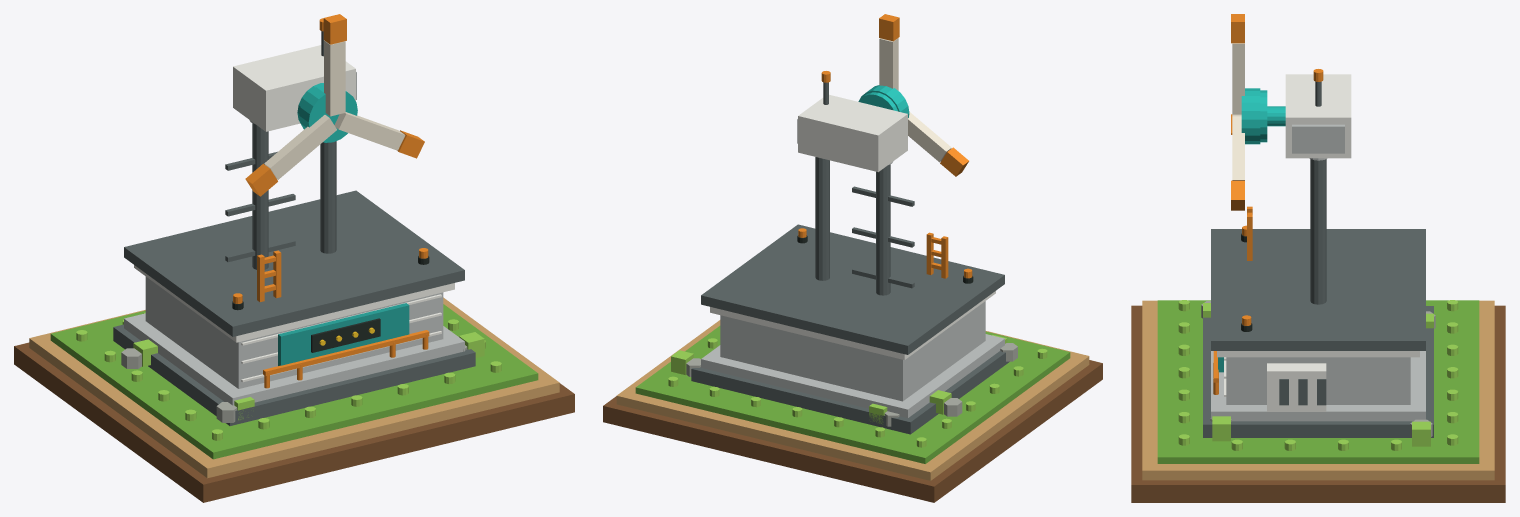
The model's file is power_station.glb.
The picture shows the model from 3 angles, left to right: view 1: azimuth 30°, elevation 25°; view 2: azimuth 150°, elevation 25°; view 3: azimuth 270°, elevation 25°; orthographic projection. The views are drawn at different scales.
Parts seen in each view (by area): view 1: deck_trim, grass_field, base_dark, base_soil, power_house, foundation_gray, foundation_dark, nacelle, control_panel, deck, tower_leg.001, tower_leg (+8 smaller); view 2: deck_trim, grass_field, base_dark, power_house, base_soil, nacelle, foundation_gray, foundation_dark, tower_leg, tower_leg.001, deck, blade.001 (+1 smaller); view 3: deck_trim, grass_field, base_dark, base_soil, power_house, foundation_dark, foundation_gray, nacelle, tower_leg.001, side_box, nacelle_side, deck (+8 smaller).
Part boxes in pixels (left/top/right/bottom): deck_trim: left=124, top=190, right=464, bottom=336; grass_field: left=50, top=304, right=538, bottom=459; base_dark: left=14, top=342, right=574, bottom=502; base_soil: left=29, top=297, right=559, bottom=478; power_house: left=145, top=276, right=443, bottom=388; foundation_gray: left=124, top=313, right=464, bottom=405; foundation_dark: left=113, top=324, right=475, bottom=425; nacelle: left=233, top=45, right=355, bottom=131; control_panel: left=278, top=303, right=409, bottom=365; deck: left=134, top=265, right=454, bottom=342; tower_leg.001: left=320, top=141, right=336, bottom=253; tower_leg: left=252, top=123, right=268, bottom=269; deck_trim: left=701, top=224, right=1004, bottom=354; grass_field: left=635, top=326, right=1070, bottom=463; base_dark: left=603, top=360, right=1102, bottom=502; power_house: left=720, top=301, right=985, bottom=401; base_soil: left=616, top=320, right=1089, bottom=480; nacelle: left=798, top=94, right=907, bottom=172; foundation_gray: left=701, top=334, right=1004, bottom=418; foundation_dark: left=691, top=350, right=1009, bottom=434; tower_leg: left=876, top=164, right=890, bottom=295; tower_leg.001: left=815, top=157, right=829, bottom=280; deck: left=710, top=291, right=995, bottom=359; blade.001: left=908, top=112, right=951, bottom=162; deck_trim: left=1211, top=229, right=1425, bottom=350; grass_field: left=1157, top=300, right=1479, bottom=463; base_dark: left=1131, top=305, right=1505, bottom=502; base_soil: left=1142, top=300, right=1494, bottom=480; power_house: left=1226, top=357, right=1410, bottom=404; foundation_dark: left=1203, top=306, right=1433, bottom=437; foundation_gray: left=1211, top=351, right=1425, bottom=421; nacelle: left=1285, top=74, right=1351, bottom=158; tower_leg.001: left=1310, top=159, right=1326, bottom=304; side_box: left=1267, top=363, right=1326, bottom=411; nacelle_side: left=1292, top=124, right=1344, bottom=153; deck: left=1217, top=351, right=1419, bottom=357.
Bounding box in the file's own units: 6.8 × 6.99 × 6.
